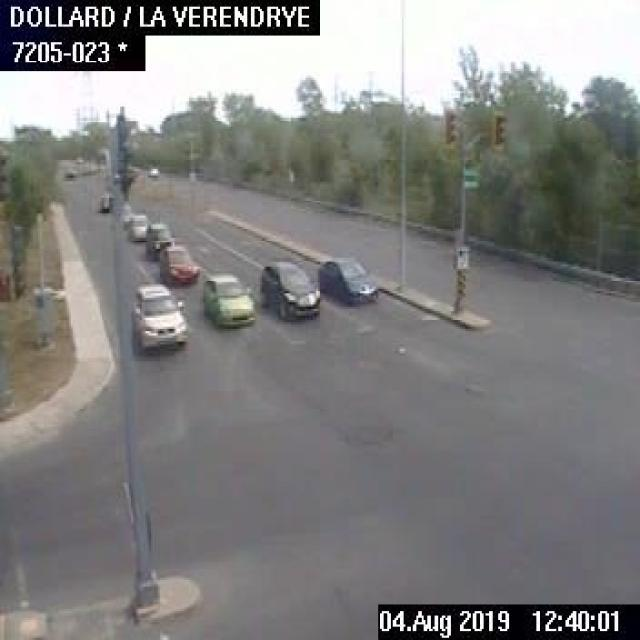vehicle: (127, 276, 187, 351), (258, 251, 321, 322), (200, 271, 256, 329), (317, 254, 379, 304), (156, 242, 202, 283), (143, 223, 170, 257), (126, 213, 148, 241), (94, 191, 112, 213), (61, 162, 79, 179), (146, 164, 158, 176)
